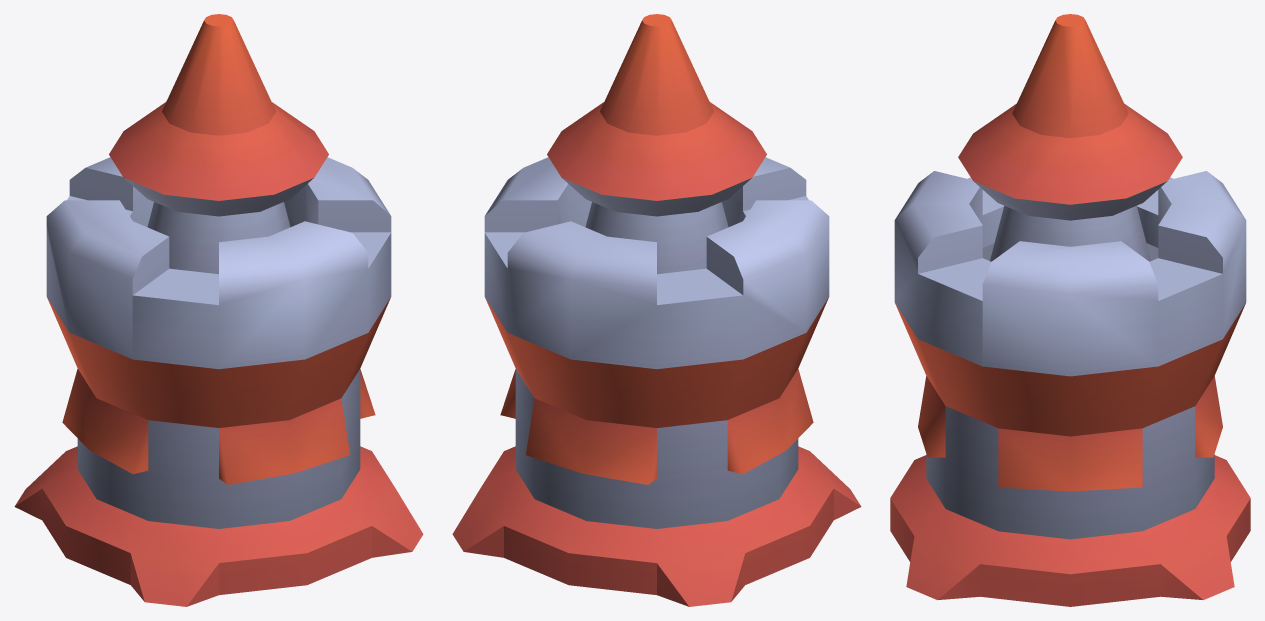
The model's file is kenney-tower-defense-tower-round-build-e.glb.
3 views of the same model, side by side, from view 1: azimuth 30°, elevation 25°; view 2: azimuth 150°, elevation 25°; view 3: azimuth 270°, elevation 25° (orthographic). The views are drawn at different scales.
Visible parts, largest first — view 1: tower-round-build-e; view 2: tower-round-build-e; view 3: tower-round-build-e.
Boxes of the visible parts, x1,y1,x2,y2 form: tower-round-build-e: (14,14,423,606); tower-round-build-e: (452,14,861,606); tower-round-build-e: (890,14,1250,606).
Size of the model in its own units: 1 by 1.56 by 1.
1 material, 1 textured.
